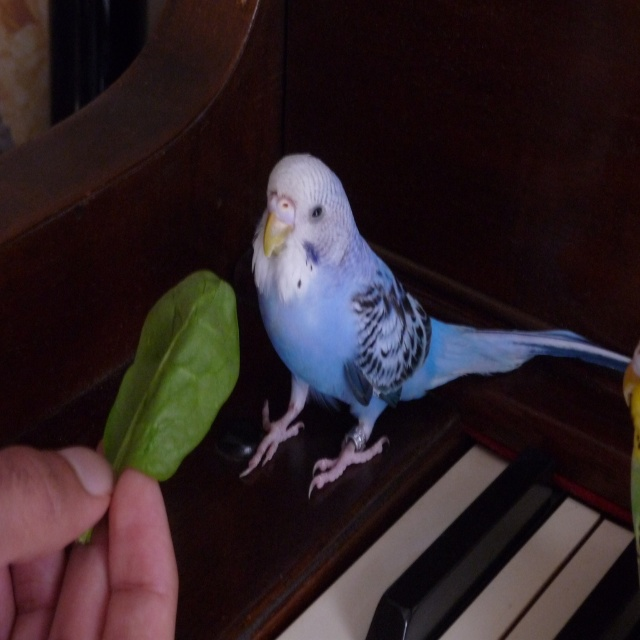Parrot: (239, 152, 632, 500)
